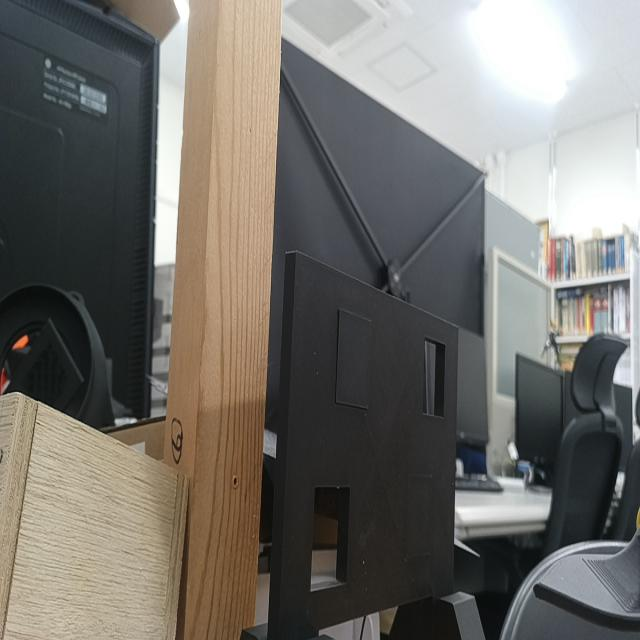Obstacle: (311, 488, 349, 591), (422, 335, 447, 420)
Wall: (279, 251, 459, 639)
